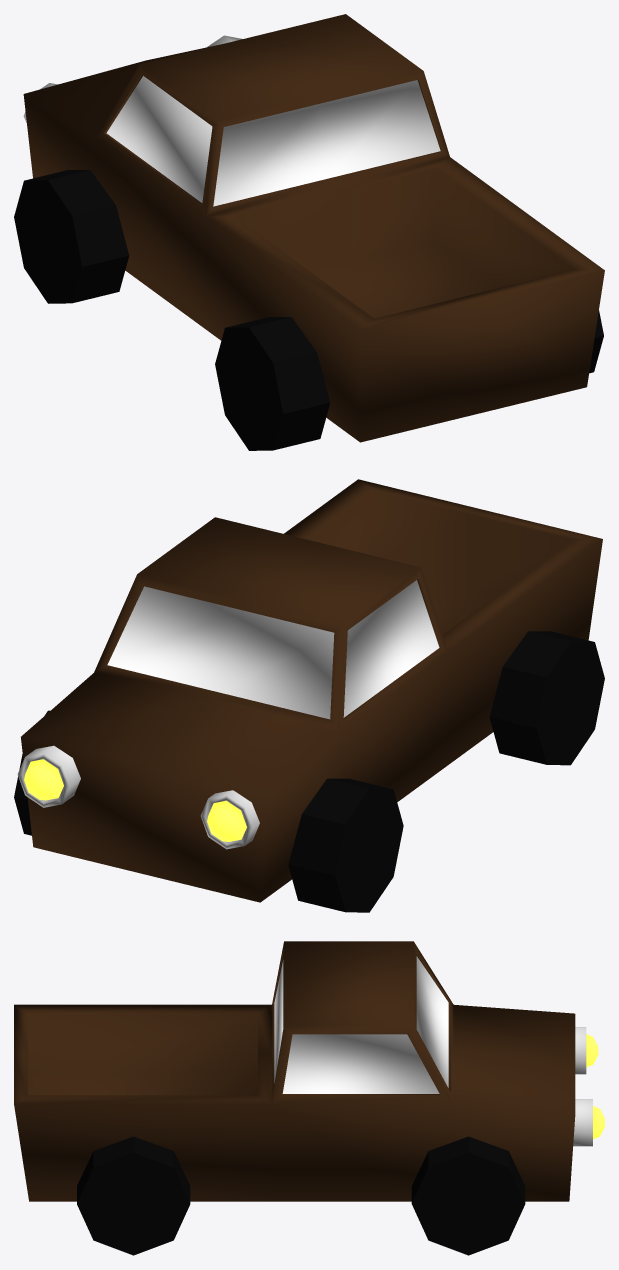
The model's file is Car.glb.
The picture shows the model from 3 angles, top to bottom: view 1: azimuth 30°, elevation 25°; view 2: azimuth 150°, elevation 25°; view 3: azimuth 270°, elevation 25°; orthographic projection. The views are drawn at different scales.
Visible parts, largest first — view 1: Cylinder.005; view 2: Cylinder.005; view 3: Cylinder.005.
Part boxes in pixels (left/top/right/bottom): Cylinder.005: left=14, top=14, right=604, bottom=450; Cylinder.005: left=14, top=479, right=604, bottom=912; Cylinder.005: left=14, top=941, right=604, bottom=1255.
Bounding box in the file's own units: 4.01 × 2.98 × 7.68.
